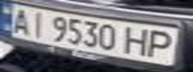0: (96, 21, 121, 52)
3: (78, 19, 100, 49)
5: (63, 17, 84, 46)
9: (45, 14, 72, 43)
A: (6, 6, 33, 35)
H: (121, 25, 154, 57)
I: (24, 9, 51, 38)
P: (142, 28, 181, 60)
